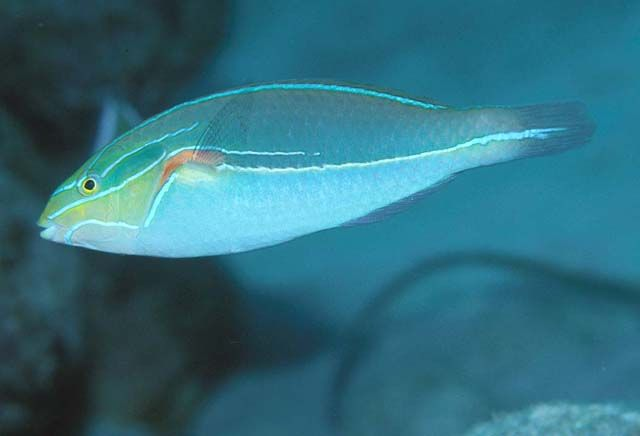fish: (36, 77, 597, 260)
